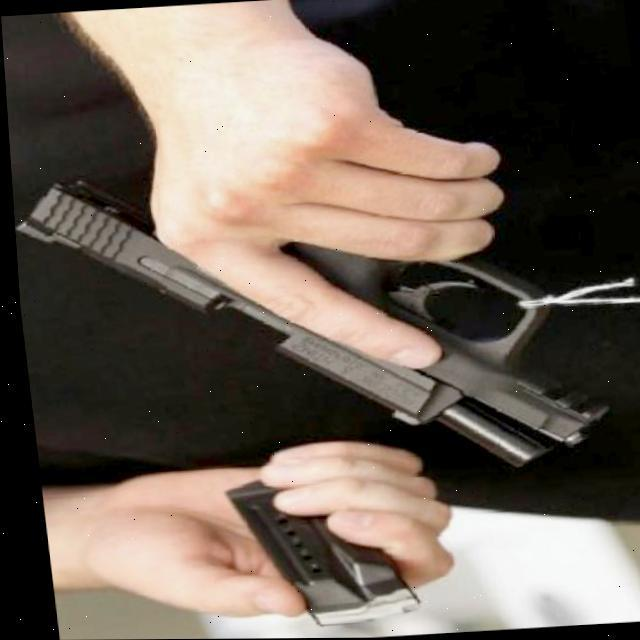gun: (5, 94, 612, 497)
